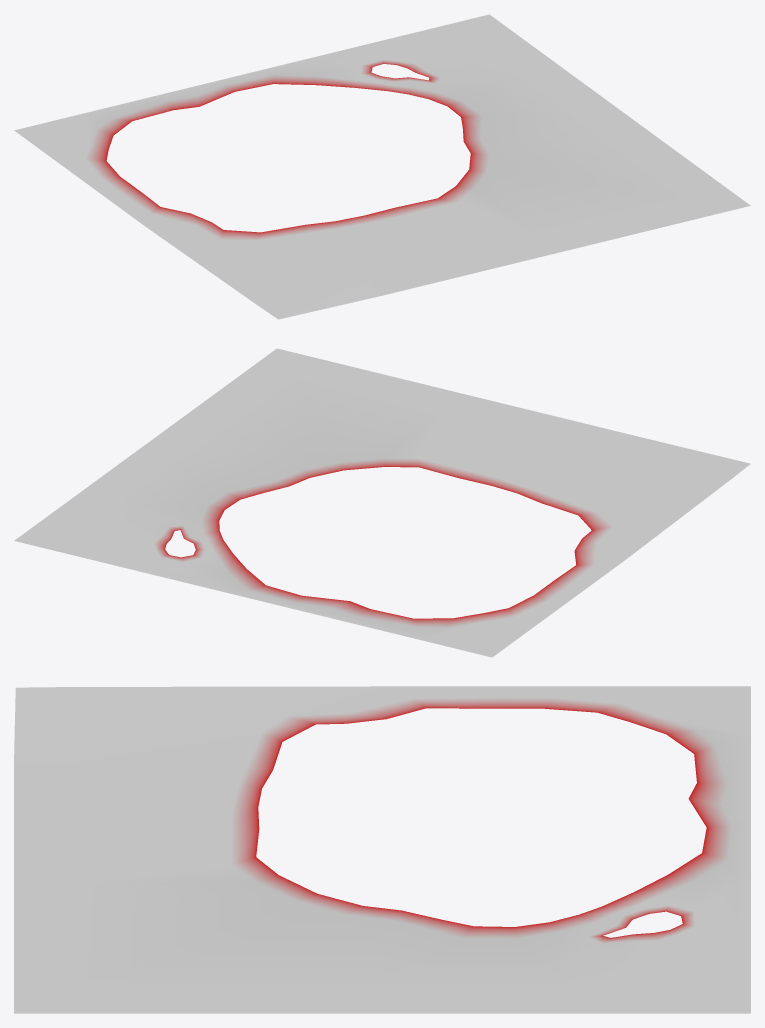
Rendered from Map_20024_water.FBX.
3 renders of one model, top to bottom at view 1: azimuth 30°, elevation 25°; view 2: azimuth 150°, elevation 25°; view 3: azimuth 270°, elevation 25°, orthographic. The views are drawn at different scales.
Visible parts, largest first — view 1: Map_20024_water; view 2: Map_20024_water; view 3: Map_20024_water.
Boxes of the visible parts, box(x1,y1,x2,y2) form: Map_20024_water: box(14, 14, 750, 319); Map_20024_water: box(14, 348, 750, 657); Map_20024_water: box(14, 686, 750, 1013).
Size of the model in its own units: 421 by 0.7822 by 401.
